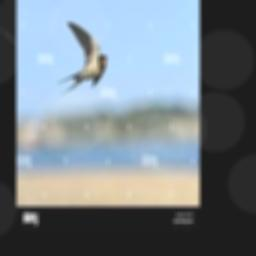Swallow: (57, 20, 106, 93)
